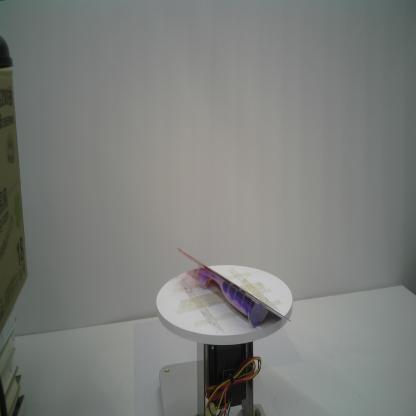Personal Hygiene: (177, 246, 291, 329)
